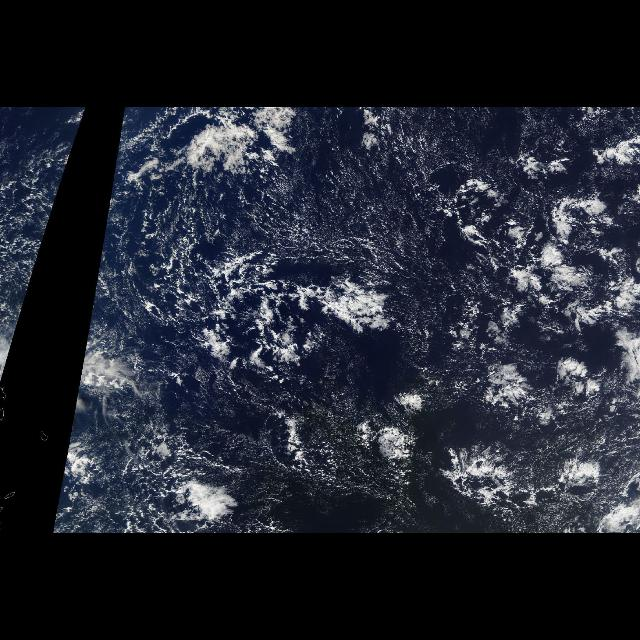Fish: (212, 262, 392, 382)
Flower: (474, 144, 636, 526)
Gravel: (88, 160, 470, 378), (491, 125, 635, 362), (1, 160, 70, 328)
Sugar: (243, 121, 472, 277), (94, 175, 216, 292), (0, 175, 66, 292)
